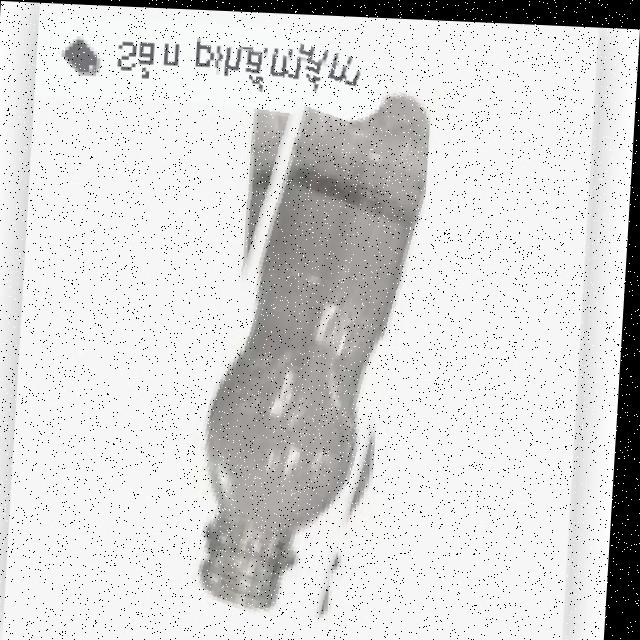litter: (180, 41, 433, 637)
